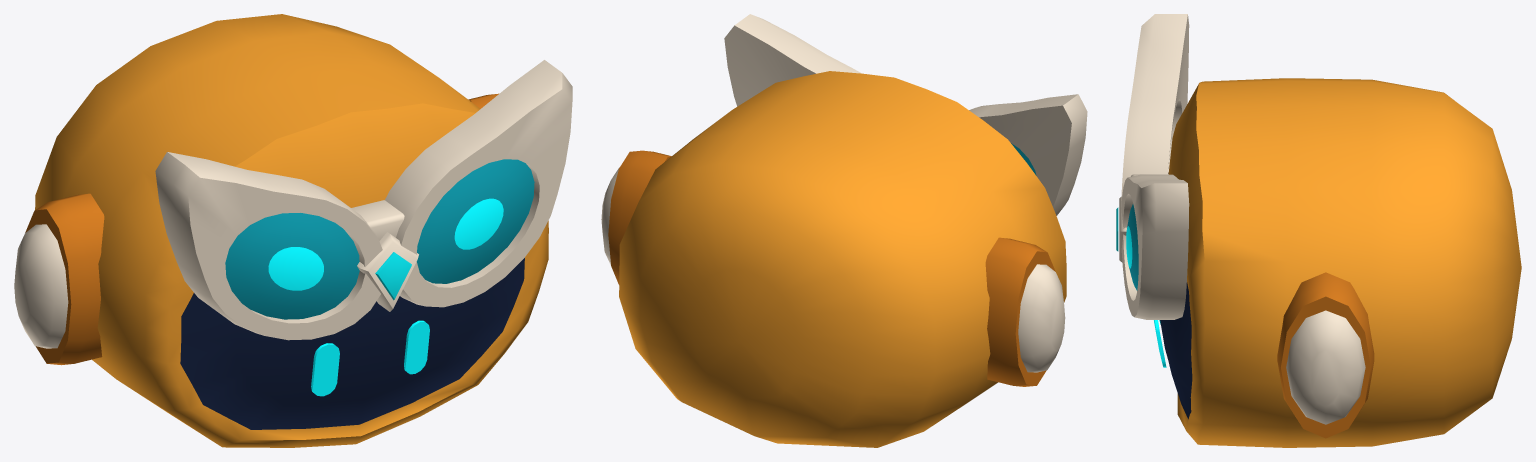
File: copilot_analyst_v01.glb
The picture shows the model from 3 angles, left to right: view 1: azimuth 30°, elevation 25°; view 2: azimuth 150°, elevation 25°; view 3: azimuth 270°, elevation 25°; orthographic projection. The views are drawn at different scales.
Visible parts, largest first — view 1: analyst_model; view 2: analyst_model; view 3: analyst_model.
Part boxes in pixels (left/top/right/bottom): analyst_model: left=14, top=14, right=572, bottom=447; analyst_model: left=601, top=14, right=1087, bottom=447; analyst_model: left=1116, top=14, right=1521, bottom=447.
Size of the model in its own units: 2.82 by 1.78 by 2.09.
Materials: 2 (2 with a texture image).
